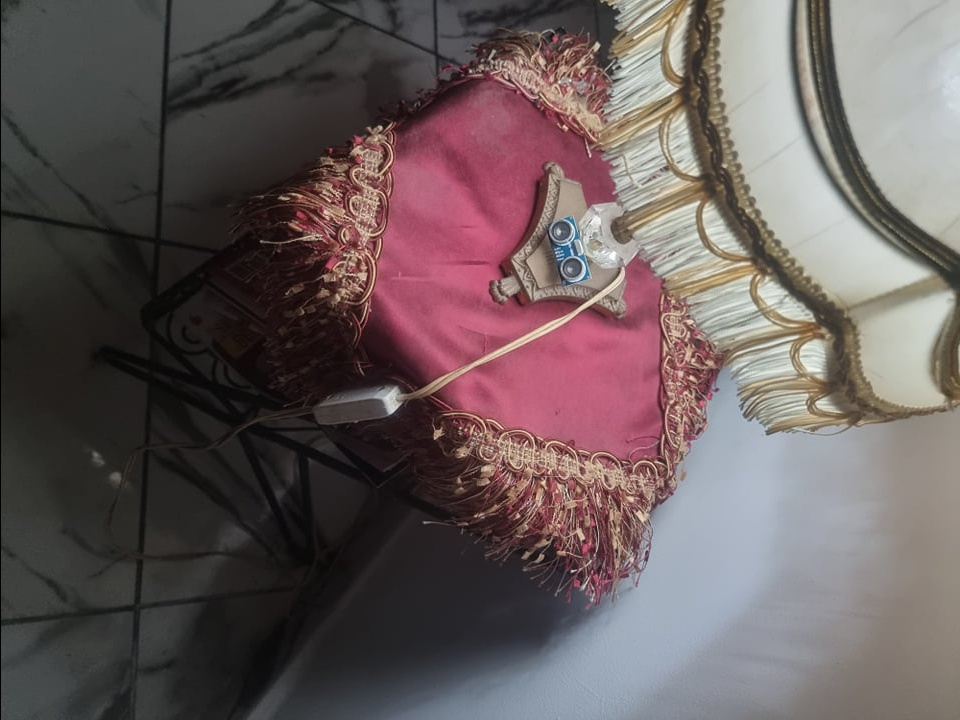SENSOR: (545, 214, 590, 289)
